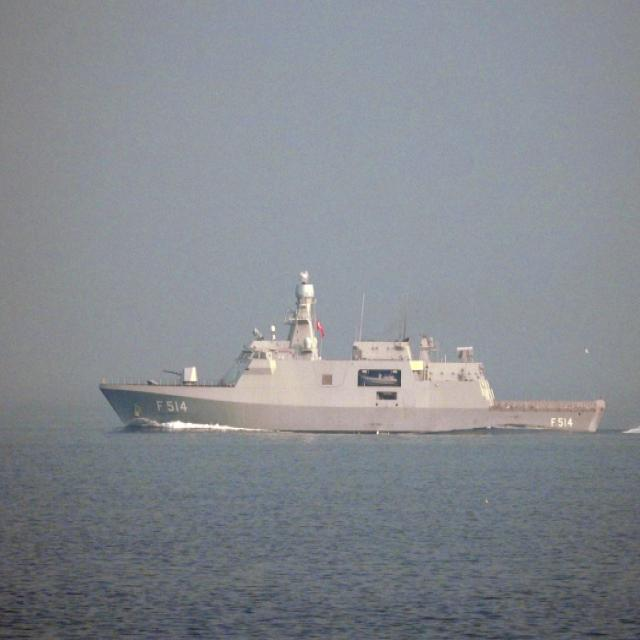Fragata: (94, 265, 608, 444)
